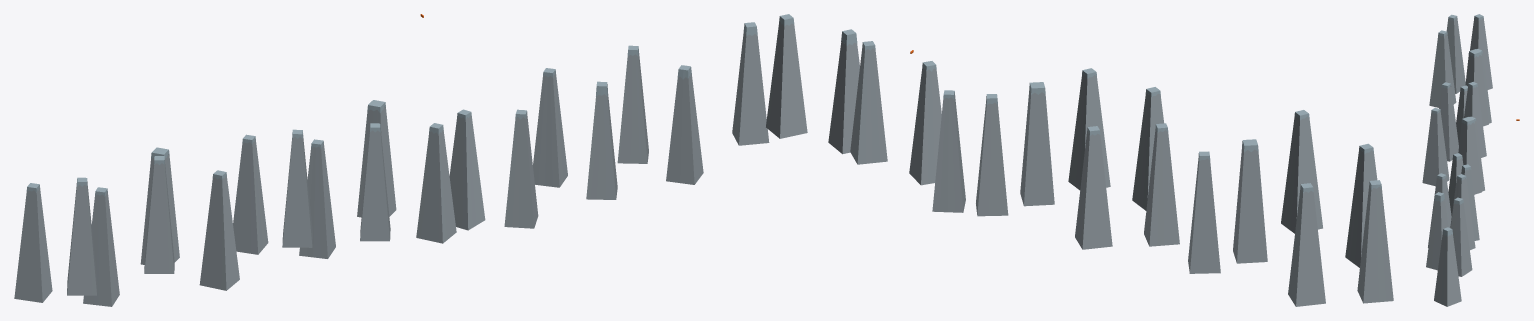
Rendered from For Environment.fbx.
The picture shows the model from 3 angles, left to right: view 1: azimuth 30°, elevation 25°; view 2: azimuth 150°, elevation 25°; view 3: azimuth 270°, elevation 25°; orthographic projection. The views are drawn at different scales.
Visible parts, largest first — view 1: Cube.021, Cube.038, Cube.034, Cube.005, Cube.015, Cube.017, Cube.011, Cube.013, Cube.007, Cube.022, Cube.008, Cube.036 (+6 smaller); view 2: Cube.007, Cube.037, Cube.020, Cube.035, Cube.018, Cube.011, Cube.005, Cube.034, Cube.017, Cube.013, Cube.015, Cube.038 (+6 smaller); view 3: Cube.005, Cube.022, Cube.039, Cube.007, Cube.020, Cube.019, Cube.008, Cube.036, Cube.037, Cube.017, Cube.034, Cube.011 (+6 smaller).
Part boxes in pixels (x1,y1,x2,y2): Cube.021: [416, 123, 456, 243]; Cube.038: [199, 170, 239, 290]; Cube.034: [14, 183, 52, 302]; Cube.005: [666, 65, 703, 184]; Cube.015: [449, 109, 485, 230]; Cube.017: [233, 134, 268, 254]; Cube.011: [533, 68, 567, 187]; Cube.013: [504, 109, 538, 228]; Cube.007: [617, 45, 648, 163]; Cube.022: [360, 123, 390, 241]; Cube.008: [586, 81, 617, 199]; Cube.036: [67, 177, 97, 295]; Cube.007: [766, 14, 807, 138]; Cube.037: [1233, 139, 1267, 263]; Cube.020: [1020, 82, 1054, 206]; Cube.035: [1288, 183, 1325, 306]; Cube.018: [1075, 126, 1112, 249]; Cube.011: [850, 41, 887, 164]; Cube.005: [732, 22, 769, 145]; Cube.034: [1357, 180, 1393, 303]; Cube.017: [1144, 123, 1179, 246]; Cube.013: [909, 61, 941, 185]; Cube.015: [932, 90, 965, 212]; Cube.038: [1188, 151, 1220, 273]; Cube.005: [1434, 227, 1461, 306]; Cube.022: [1422, 108, 1449, 186]; Cube.039: [1429, 30, 1456, 107]; Cube.007: [1450, 197, 1472, 276]; Cube.020: [1458, 117, 1481, 194]; Cube.019: [1439, 82, 1458, 161]; Cube.008: [1426, 192, 1448, 270]; Cube.036: [1446, 14, 1465, 93]; Cube.037: [1465, 49, 1488, 126]; Cube.017: [1464, 81, 1486, 157]; Cube.034: [1470, 14, 1492, 89]; Cube.011: [1450, 174, 1475, 249].
Bounding box in the file's own units: 5.64 × 1.45 × 1.09.
